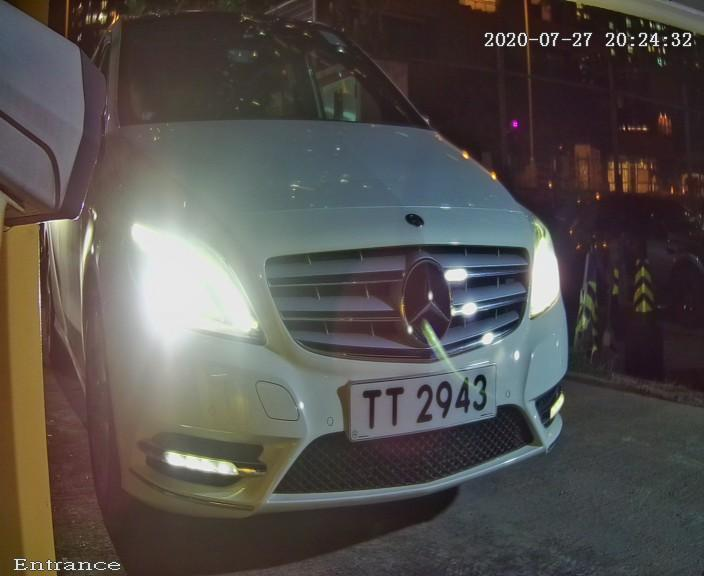privatecar: (73, 13, 588, 546)
